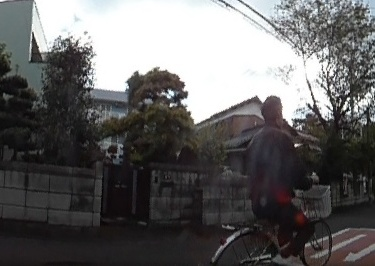person: (251, 93, 313, 255)
